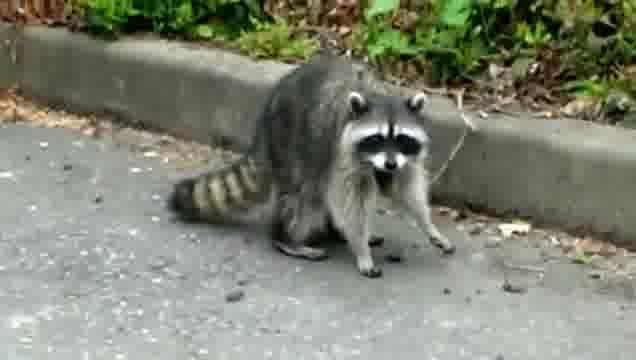raccoon: (168, 60, 455, 278)
